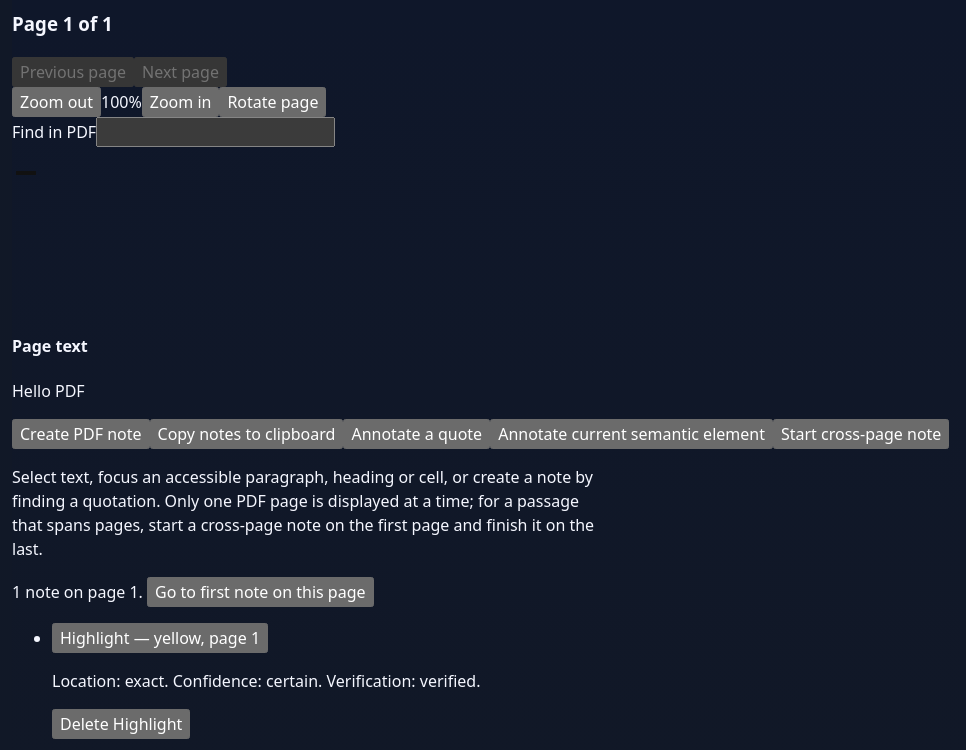
Test: PDF reader annotation rendering › copies notes with their original quotes to the clipboard and jumps from page to note
Expected: the button "Copy notes to clipboard" is enabled, [150, 419, 343, 449]
Expected: the text "1 note on page 1. Go to first note on this page" is shown, [12, 577, 374, 607]
Click the button "Go to first note on this page" at point(260, 592), box [147, 577, 374, 607]
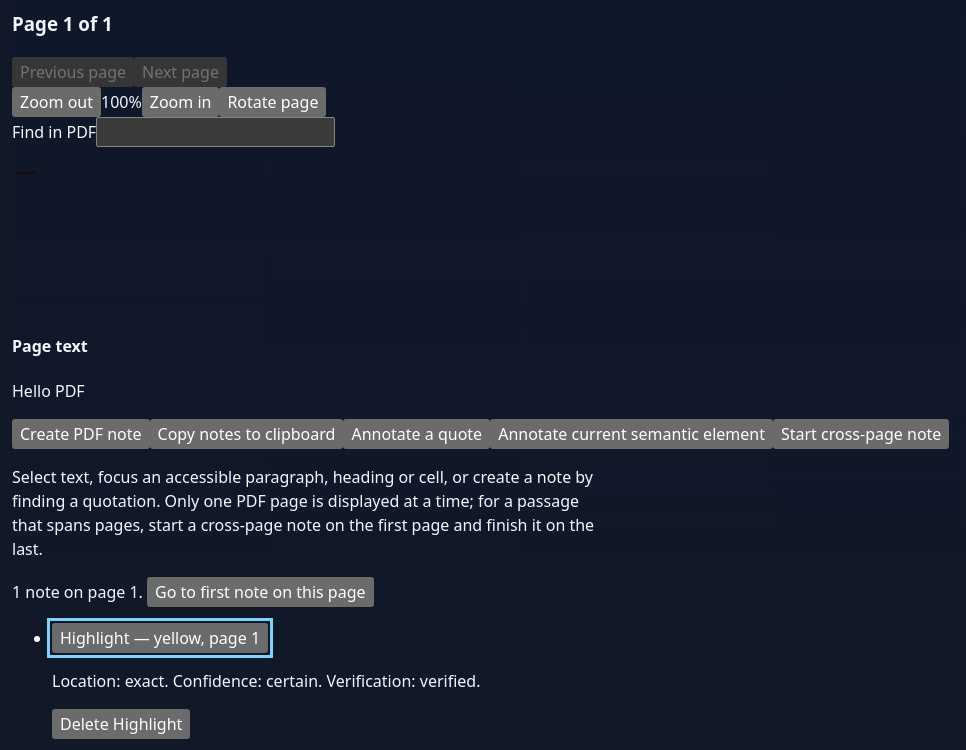
Click the button "Copy notes to clipboard" at point(246, 434), box [150, 419, 343, 449]
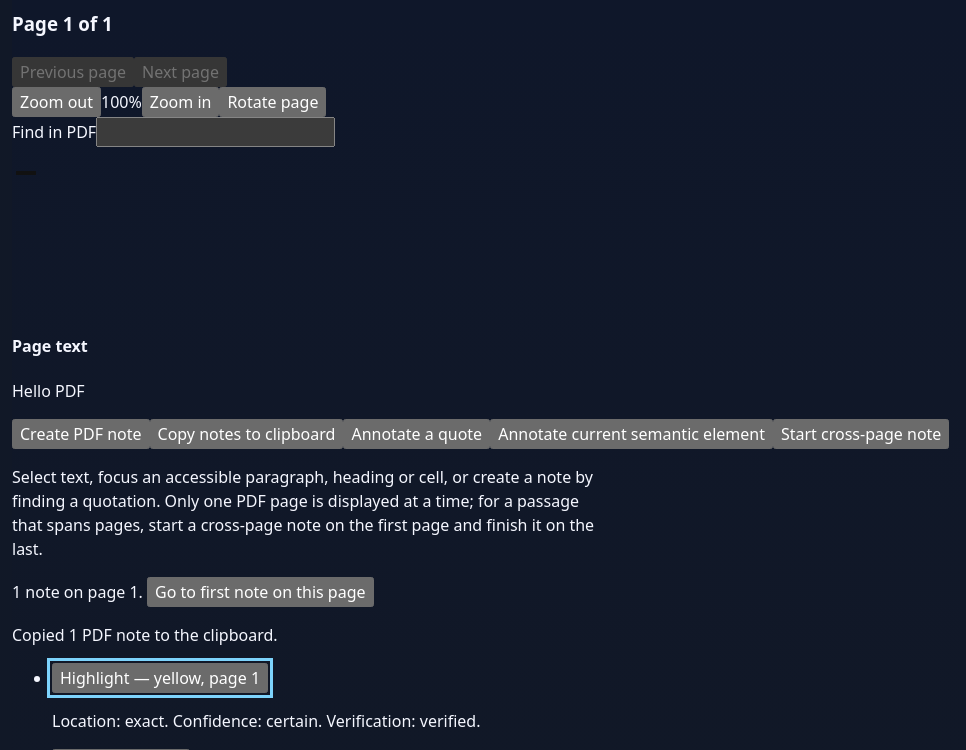
Expected: the text "Copied 1 PDF note to the clipboard." is shown, [12, 624, 278, 646]
